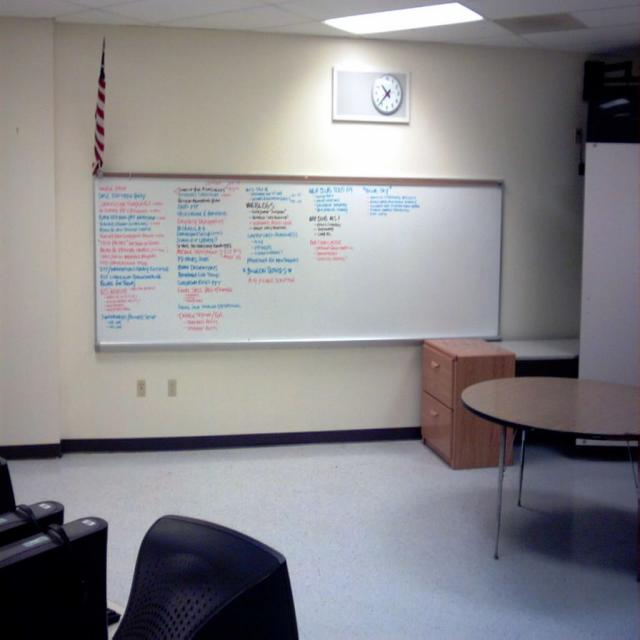chair: (109, 515, 299, 639)
desk: (469, 361, 628, 547)
